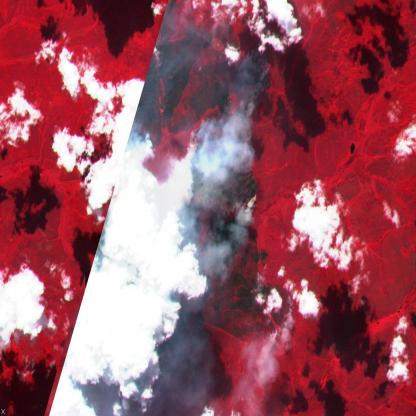fire: (171, 44, 278, 219), (168, 327, 215, 389), (255, 283, 299, 348)
